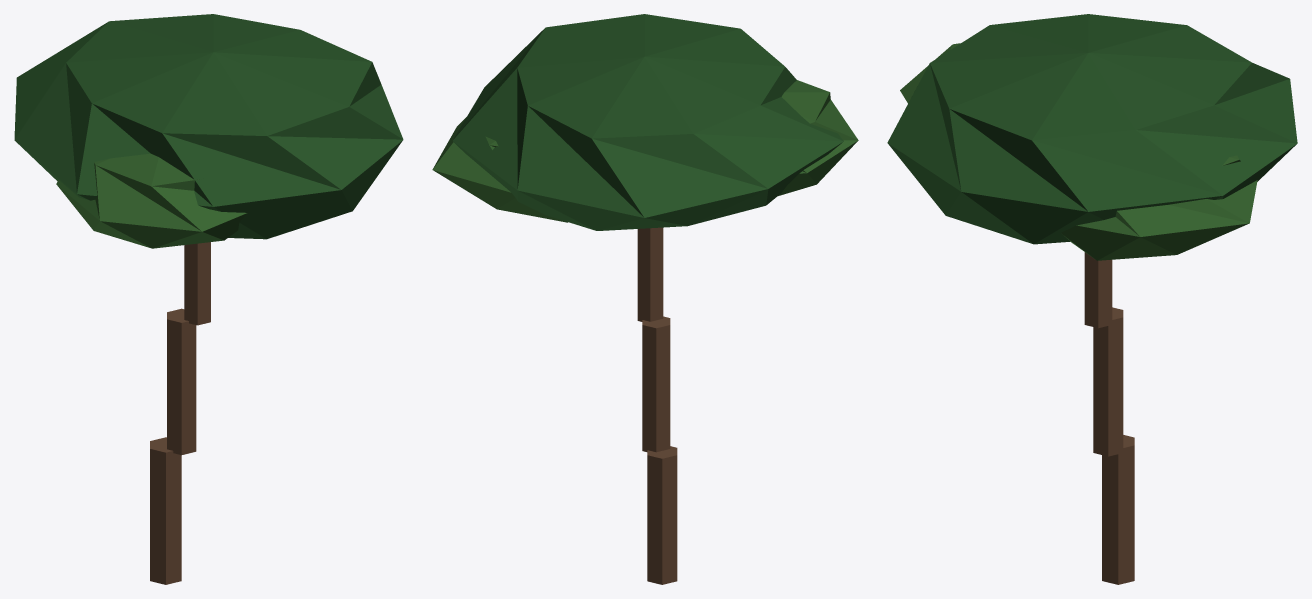
Rendered from tree_stonepine.glb.
3 views of the same model, side by side, from view 1: azimuth 30°, elevation 25°; view 2: azimuth 150°, elevation 25°; view 3: azimuth 270°, elevation 25° (orthographic). The views are drawn at different scales.
Visible parts, largest first — view 1: tree_stonepine; view 2: tree_stonepine; view 3: tree_stonepine.
Boxes of the visible parts, x1,y1,x2,y2 form: tree_stonepine: (14,14,403,584); tree_stonepine: (432,14,858,584); tree_stonepine: (887,14,1297,584).
Bounding box in the file's own units: 7.85 × 11.5 × 7.9.
